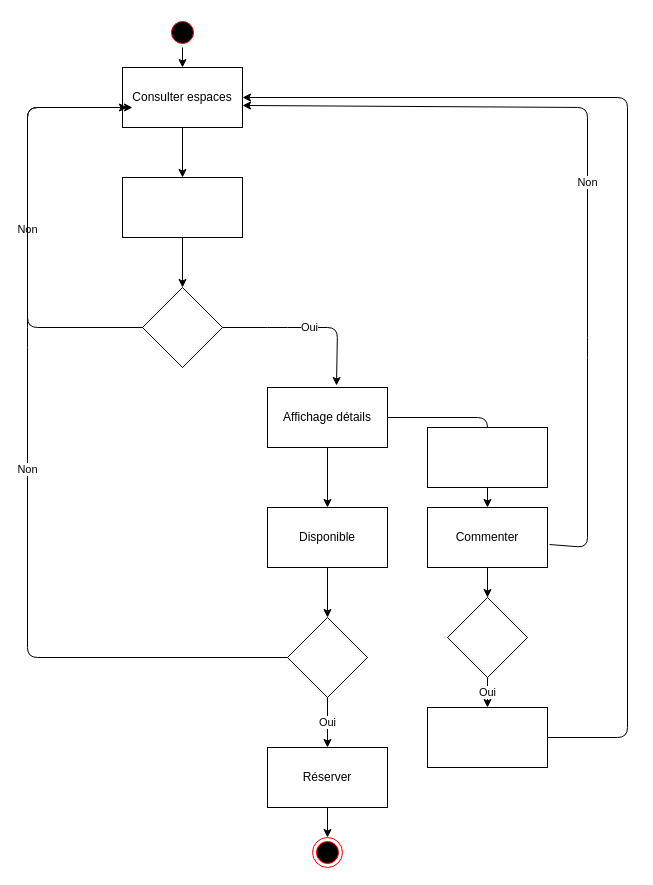
Some shapes in this 653 by 885 pixel diagram are drawn without their labels. Here are the shapes that lost their labels. From the top down, the centre of each, then its label:
point (182, 207): Voir détail
point (487, 457): Voir commentaire
point (487, 737): Laisser un commentaire
